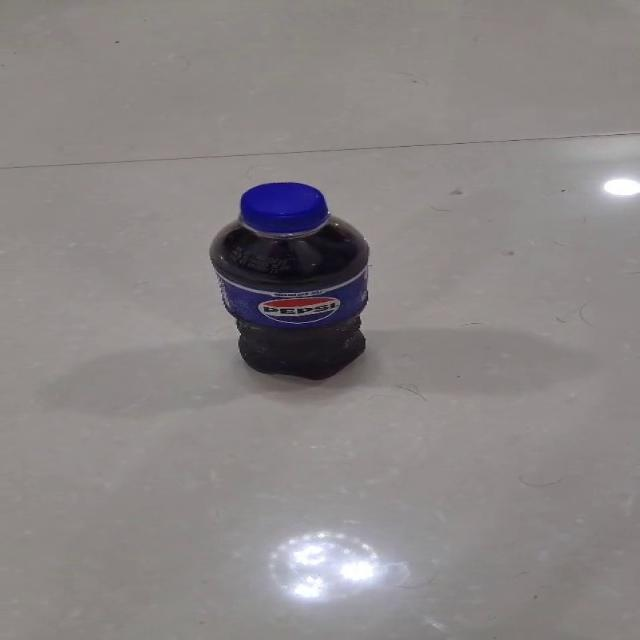plastic: (207, 181, 371, 380)
